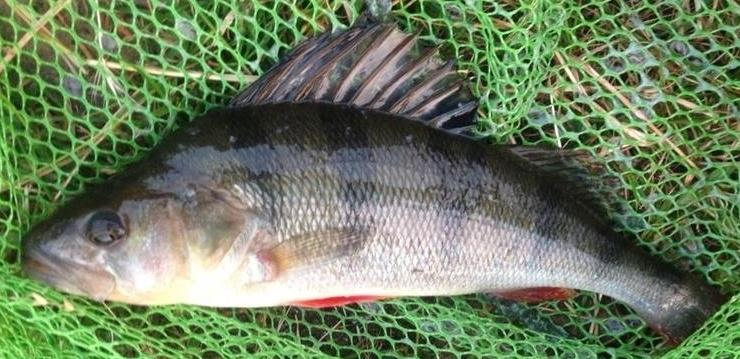Perch: (21, 17, 729, 351)
